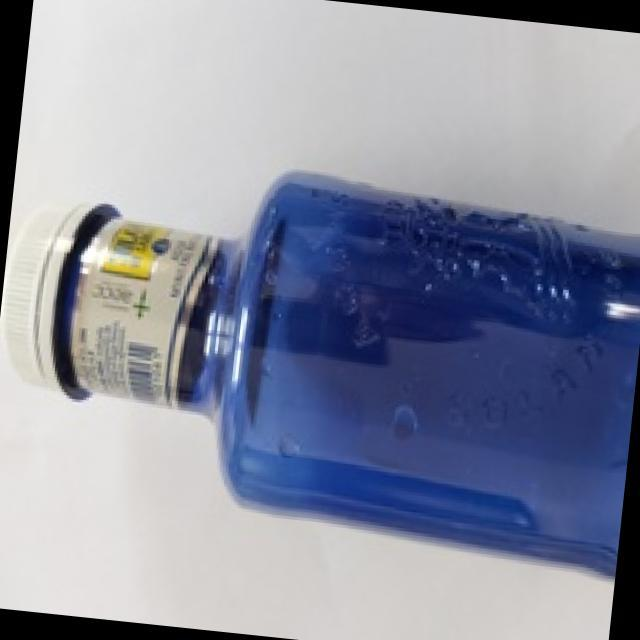good: (0, 108, 640, 579)
